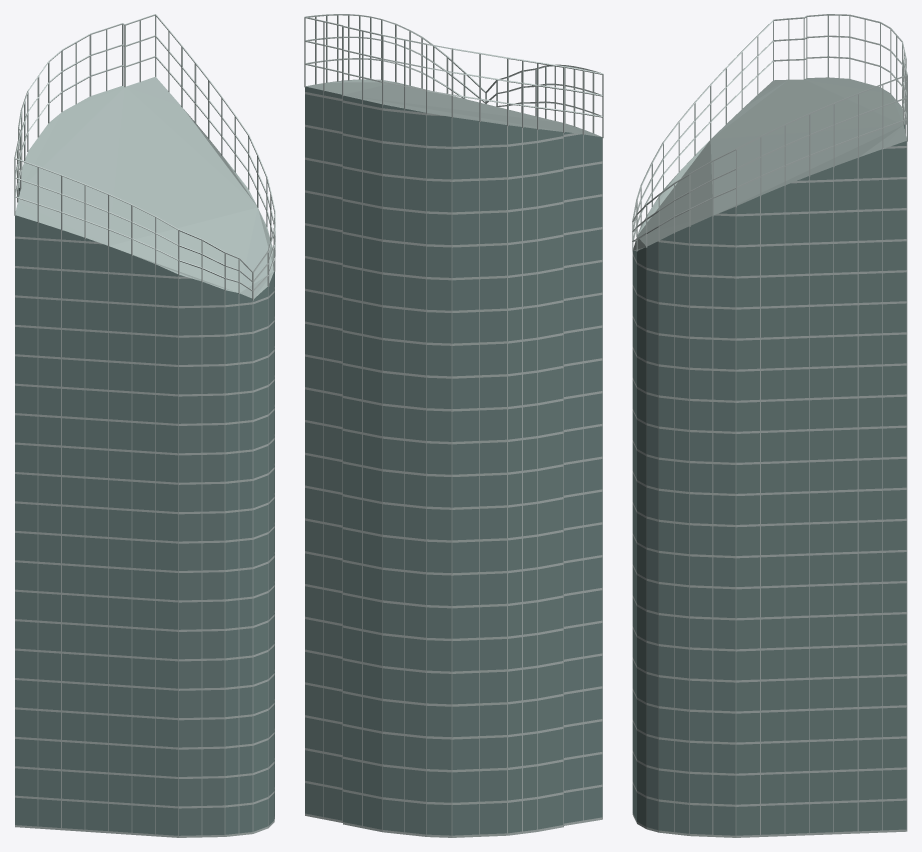
Rendered from tour-t1-far.glb.
3 renders of one model, left to right at view 1: azimuth 30°, elevation 25°; view 2: azimuth 150°, elevation 25°; view 3: azimuth 270°, elevation 25°, orthographic. The views are drawn at different scales.
Visible parts, largest first — view 1: tour-t1-0-glass, tour-t1-0-roof, tour-t1-0-frame; view 2: tour-t1-0-glass, tour-t1-0-frame, tour-t1-0-roof; view 3: tour-t1-0-glass, tour-t1-0-frame, tour-t1-0-roof.
Part boxes in pixels (x1,y1,x2,y2): tour-t1-0-glass: (15, 188, 274, 835); tour-t1-0-roof: (15, 77, 273, 298); tour-t1-0-frame: (14, 14, 275, 837); tour-t1-0-glass: (305, 86, 602, 835); tour-t1-0-frame: (304, 14, 603, 837); tour-t1-0-roof: (306, 79, 601, 136); tour-t1-0-glass: (632, 124, 906, 835); tour-t1-0-frame: (632, 14, 907, 837); tour-t1-0-roof: (633, 77, 906, 250).
Bounding box in the file's own units: 58.68 × 185 × 61.15.
